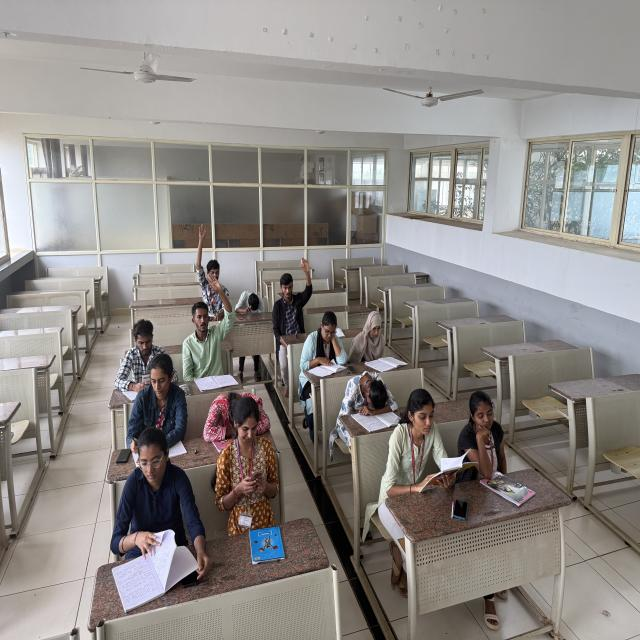Hand Rising: (177, 275, 241, 379), (263, 248, 317, 335), (189, 221, 235, 302), (236, 283, 268, 319)
Reading: (100, 421, 212, 609), (347, 297, 406, 371), (336, 367, 402, 430), (302, 303, 348, 381)
Using Phone: (214, 394, 288, 530), (111, 315, 176, 388)
Writing: (388, 369, 466, 508), (124, 352, 190, 459)
